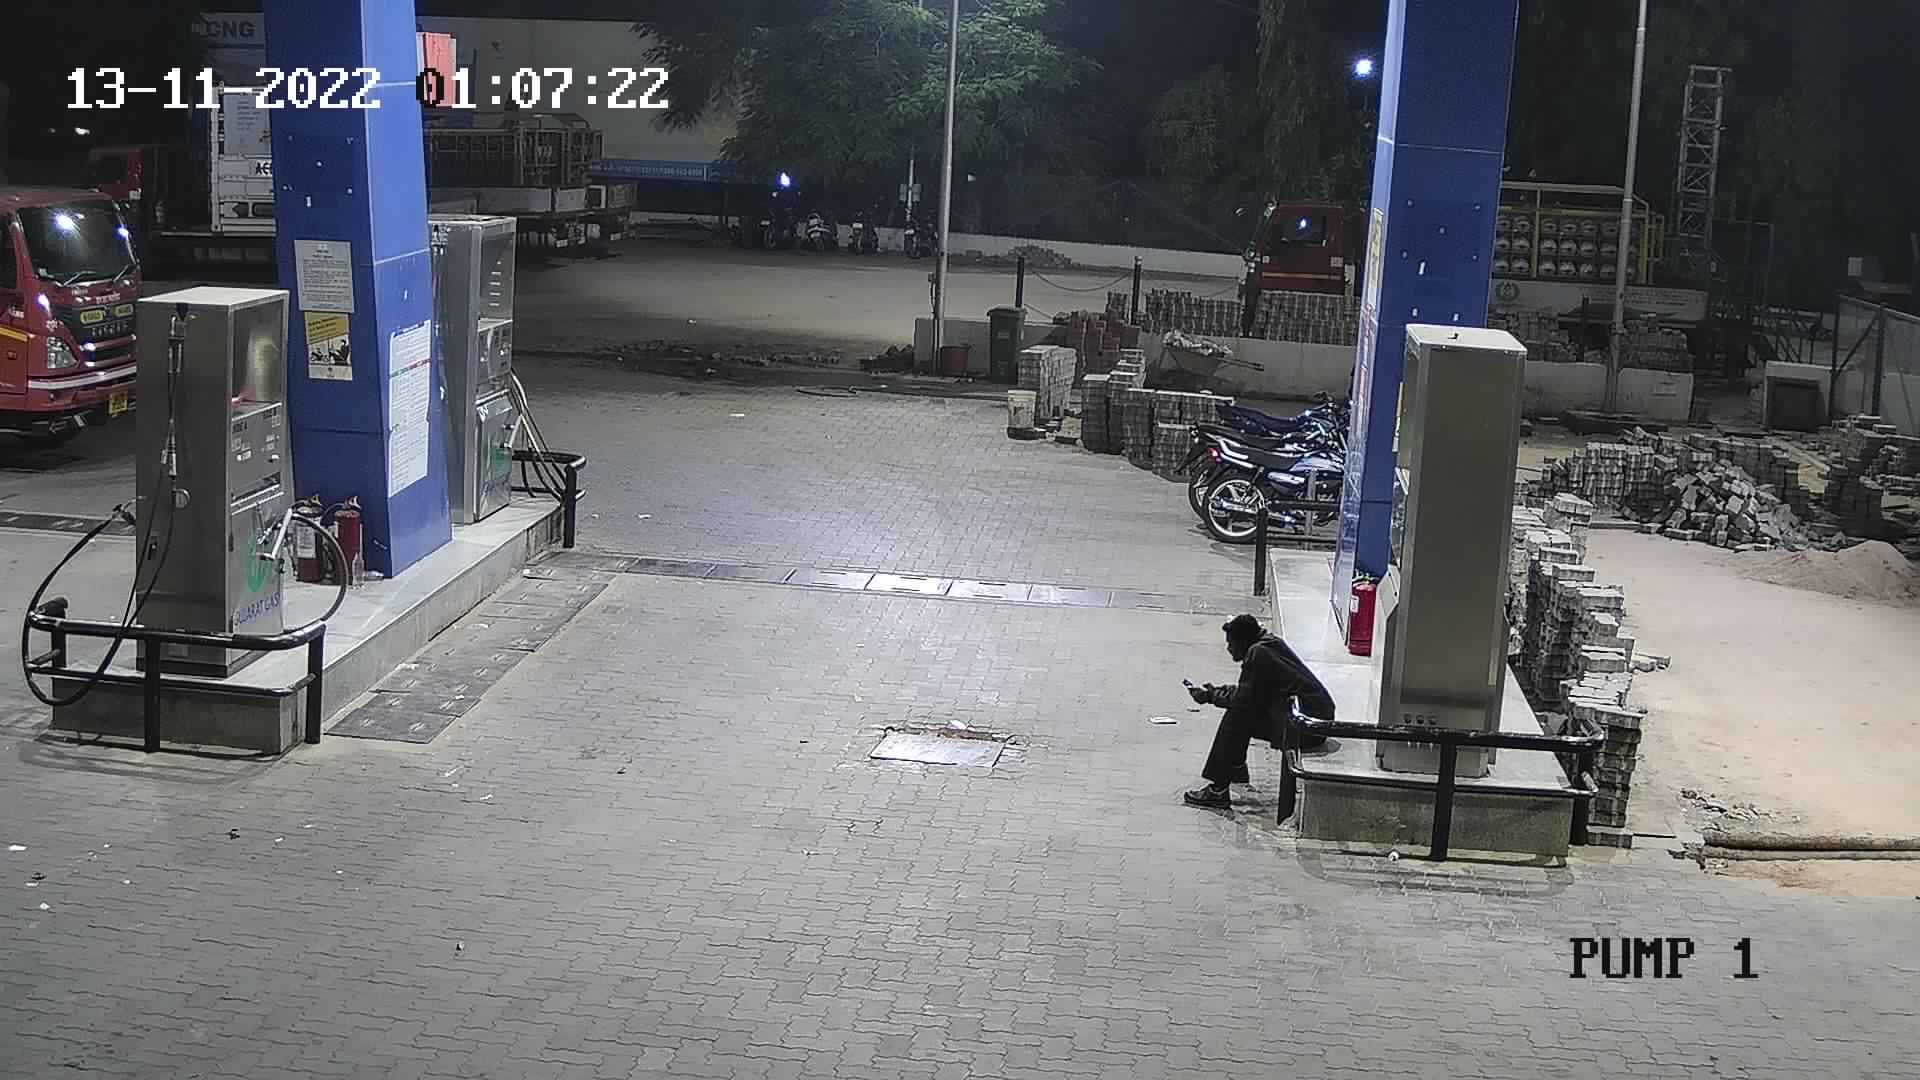Bike: (1178, 388, 1356, 562), (748, 186, 804, 255), (899, 200, 943, 266), (845, 194, 889, 260), (802, 191, 845, 255)
HMV: (0, 131, 167, 456), (67, 74, 284, 284), (406, 80, 650, 262), (1216, 170, 1367, 344)
